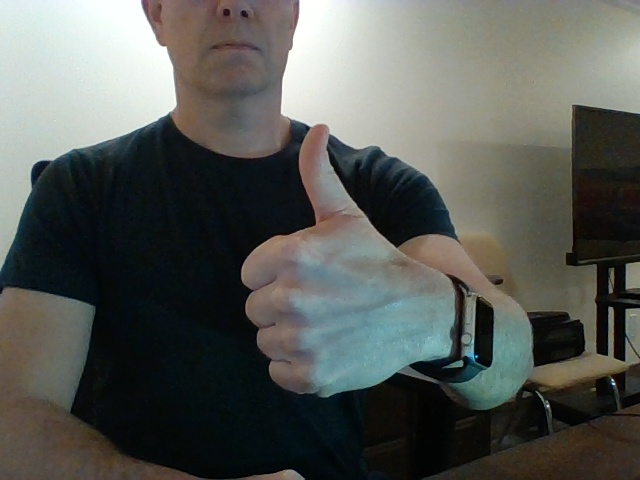ThumbsUp: (241, 124, 439, 398)
